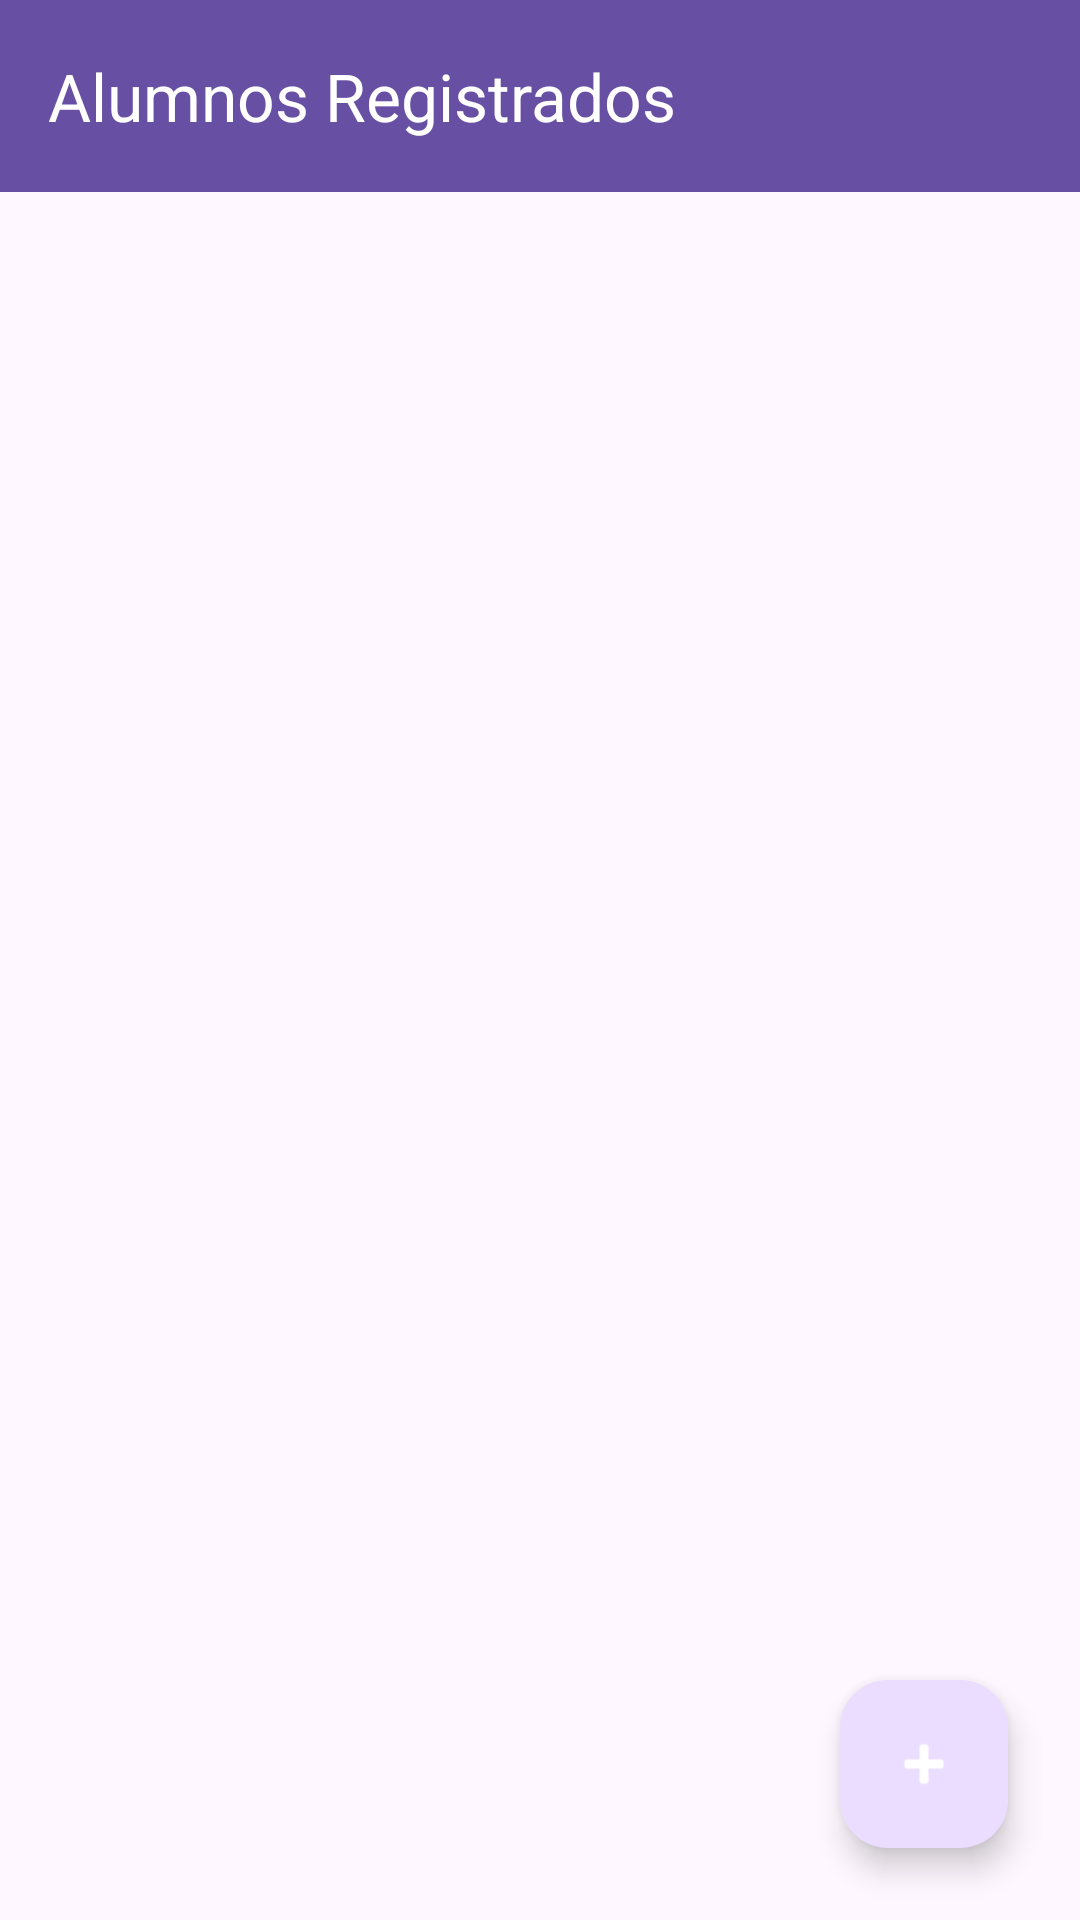

Icons on this 1080px×1920px Android screen, each with the point to tap as (x,y):
Agregar alumno: (924,1764)
